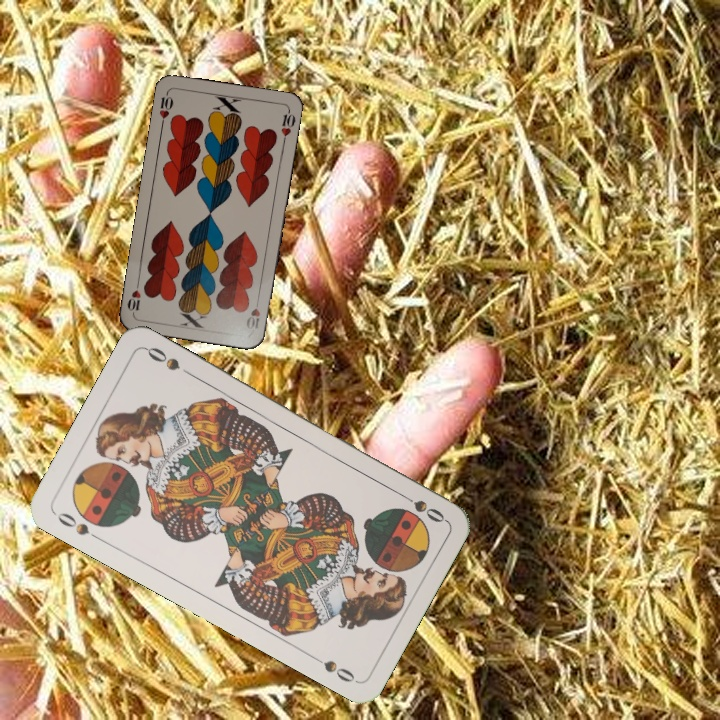H10: (155, 88, 176, 128), (243, 293, 262, 332)
SO: (394, 488, 448, 526), (50, 508, 105, 544)
